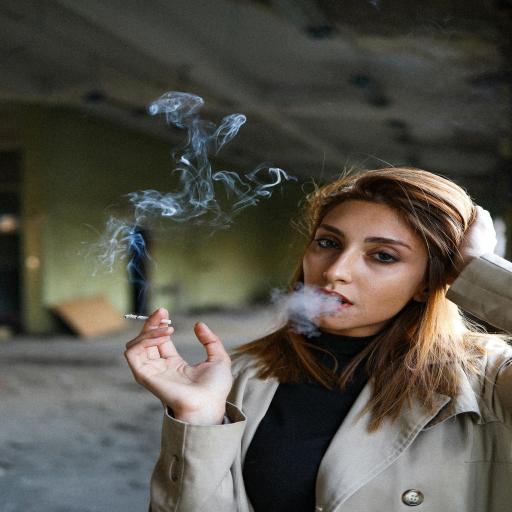terdeteksi pegang rokok: (118, 288, 237, 420)
